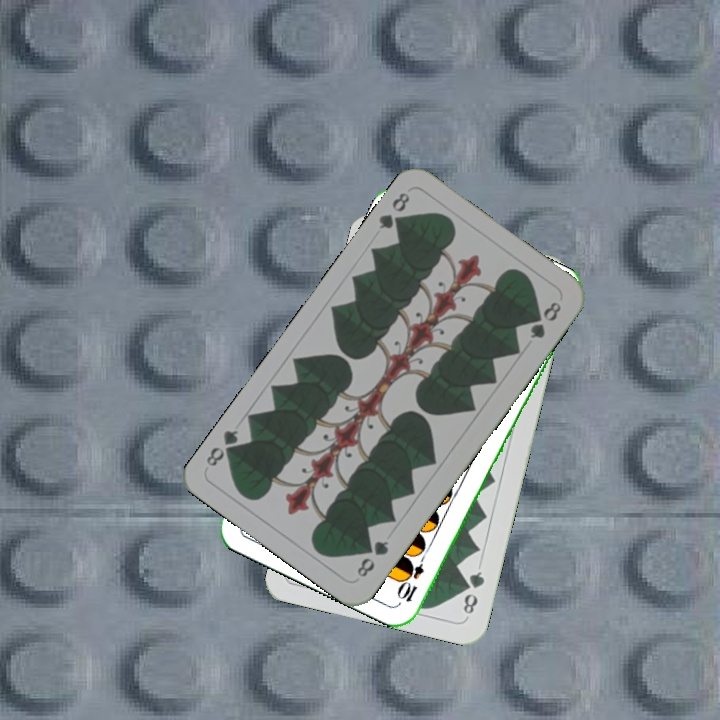E10: (395, 547, 429, 605)
G8: (374, 188, 413, 234), (353, 536, 392, 580), (459, 567, 487, 617)
